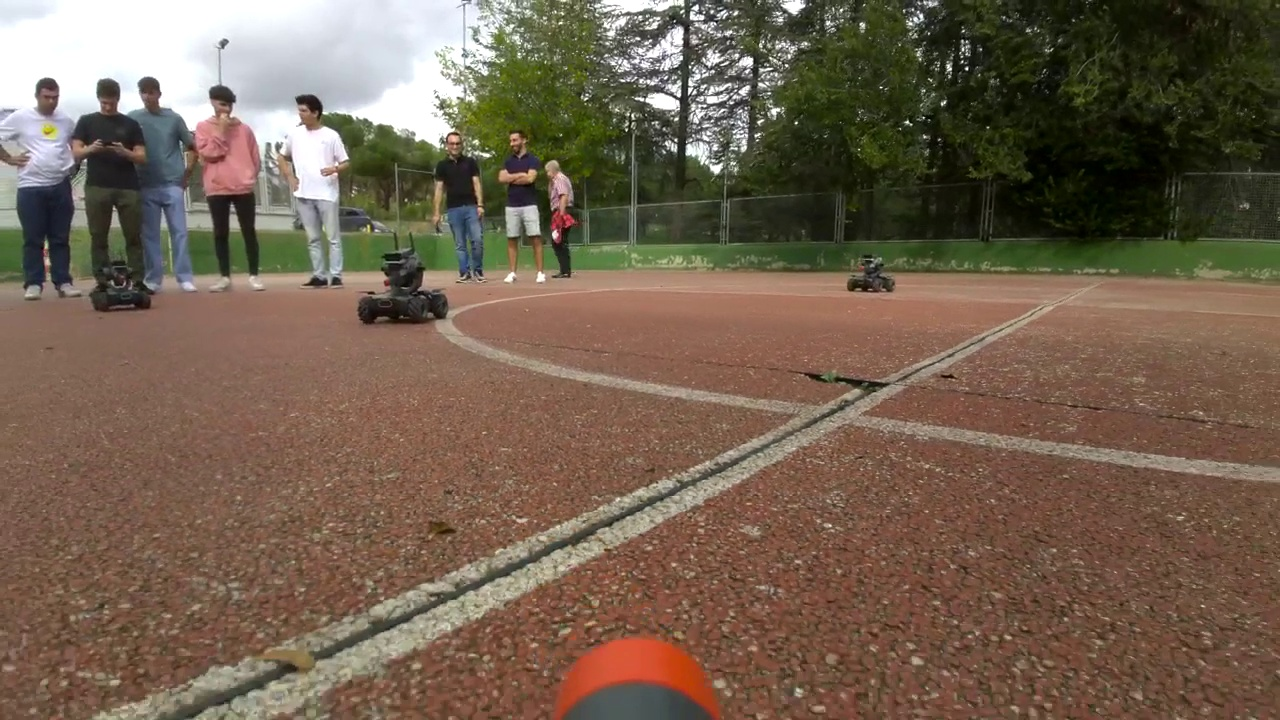robot: (358, 247, 449, 323), (90, 260, 149, 312), (847, 255, 894, 292)
